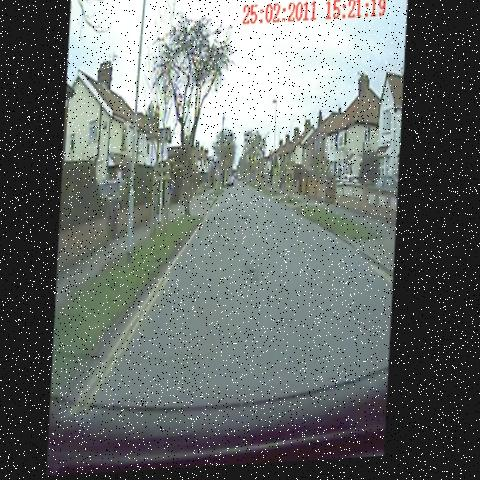pothole: (277, 308, 305, 340), (243, 261, 267, 293), (206, 230, 229, 255), (241, 213, 259, 227), (222, 205, 234, 218), (237, 197, 247, 211)
